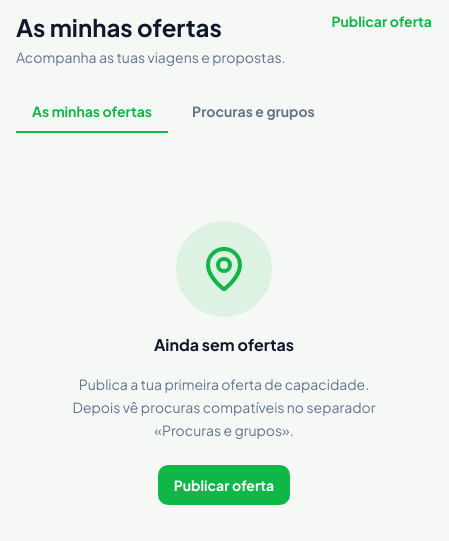
Test case: DriverDashboard — marketplace › sem ofertas: tab Procuras e grupos lista procuras e CTA Enviar proposta
Click the tab "Procuras e grupos".
click(254, 112)  # box [176,91,331,133]
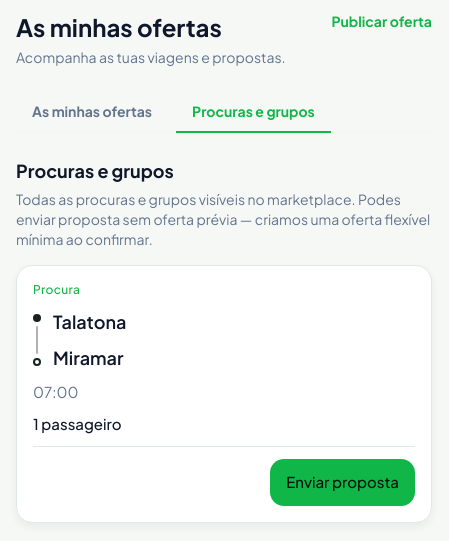
Check: the element with test id "driver-procuras-grupos-section" is shown
Check: the text "oferta flexível mínima" is shown, box [16,190,430,248]
Check: the button "Enviar proposta" is shown, box [270,459,415,506]
